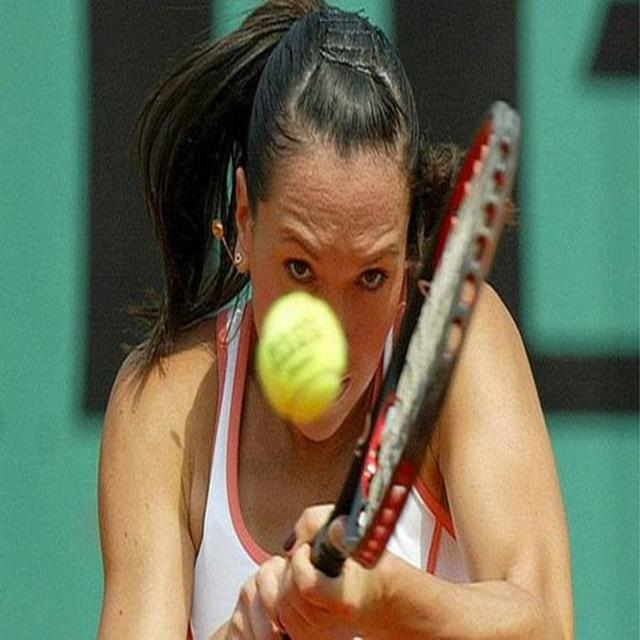Face: (261, 94, 412, 437)
